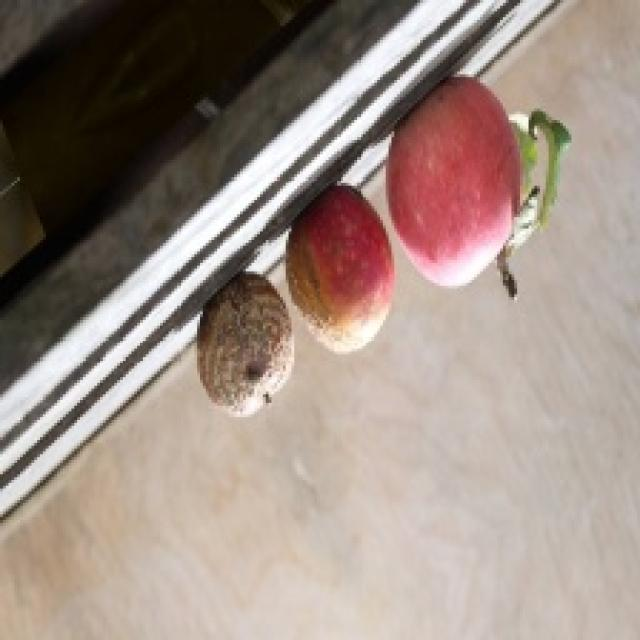rotten_apple: (288, 191, 391, 353), (198, 276, 295, 418)
